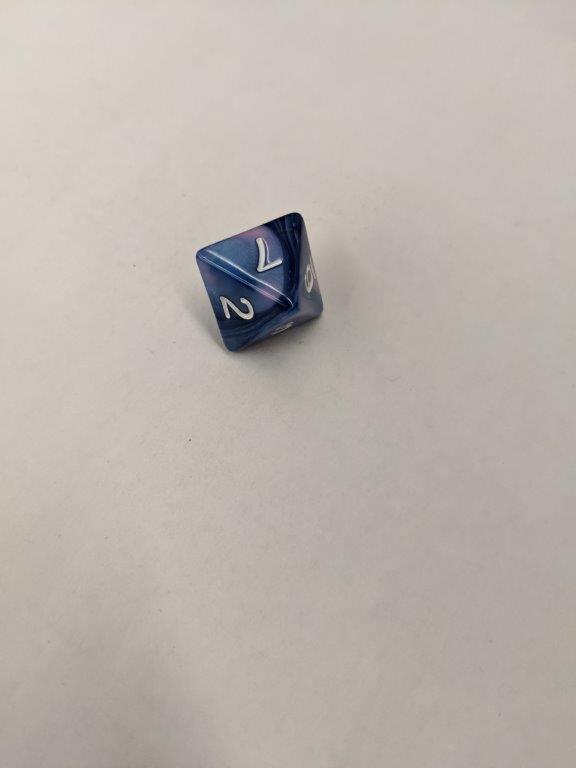d8-7: (197, 209, 325, 355)
